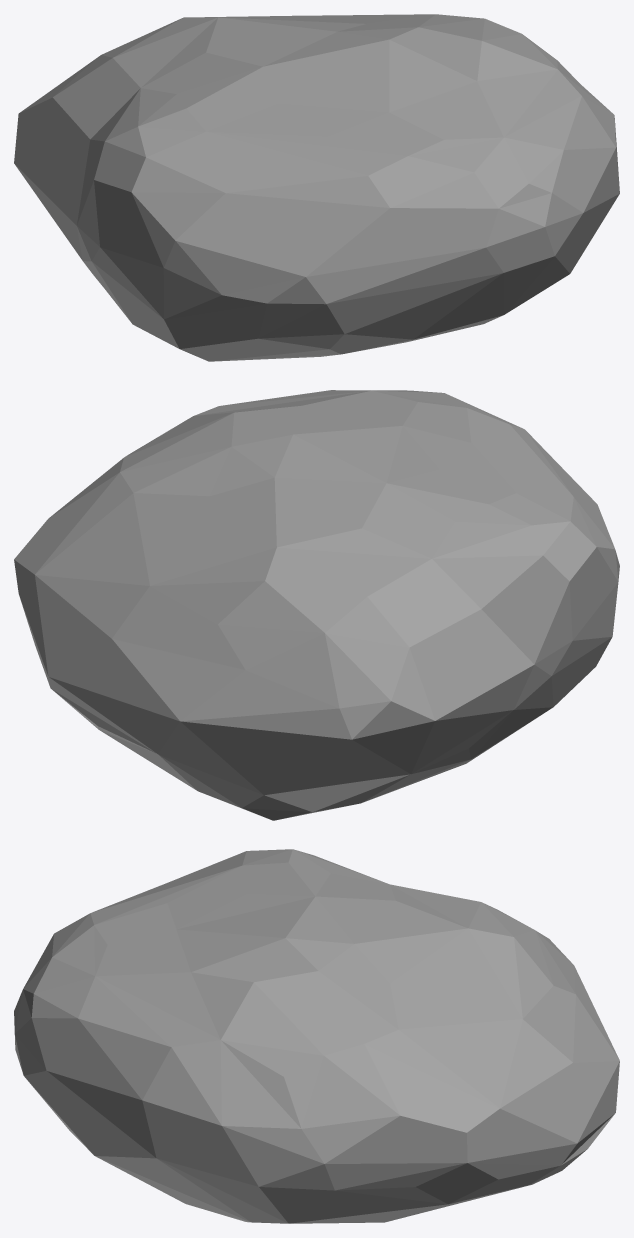
The model's file is Rock_013.glb.
The picture shows the model from 3 angles, top to bottom: view 1: azimuth 30°, elevation 25°; view 2: azimuth 150°, elevation 25°; view 3: azimuth 270°, elevation 25°; orthographic projection. The views are drawn at different scales.
Visible parts, largest first — view 1: Rock_013; view 2: Rock_013; view 3: Rock_013.
Boxes of the visible parts, x1,y1,x2,y2 form: Rock_013: (14,14,619,361); Rock_013: (14,390,619,820); Rock_013: (14,849,619,1223).
Size of the model in its own units: 0.6447 by 0.3356 by 0.6932.
1 material, 1 textured.
